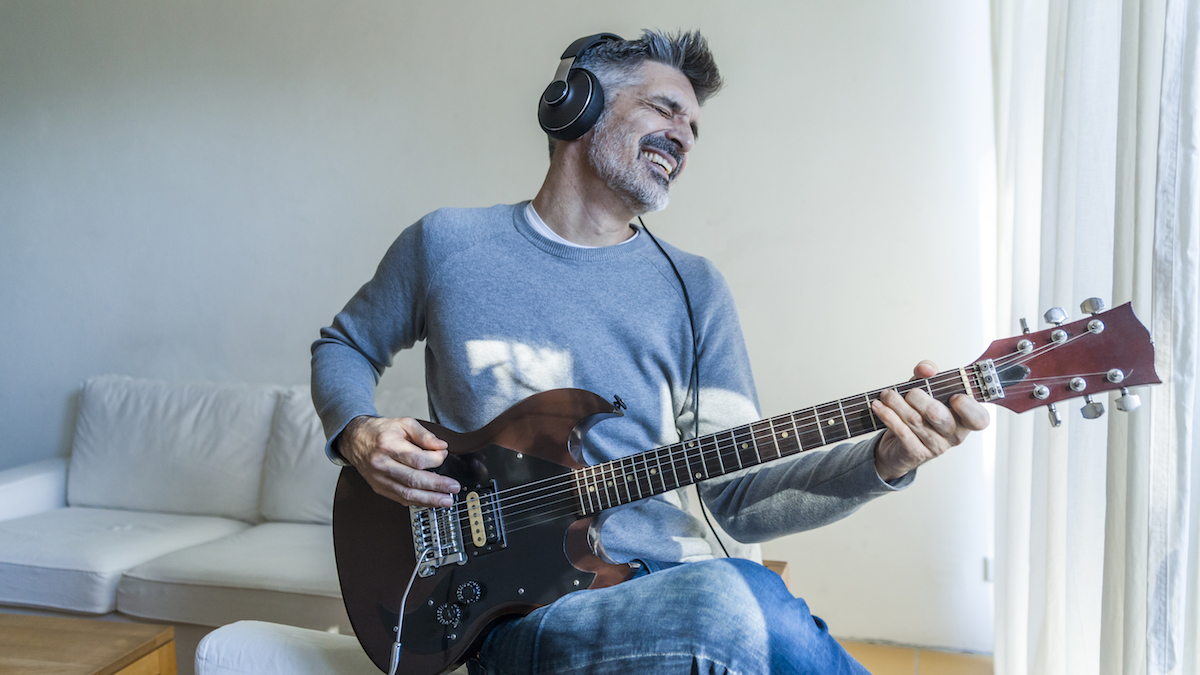acousticguitar: (328, 288, 1158, 670)
